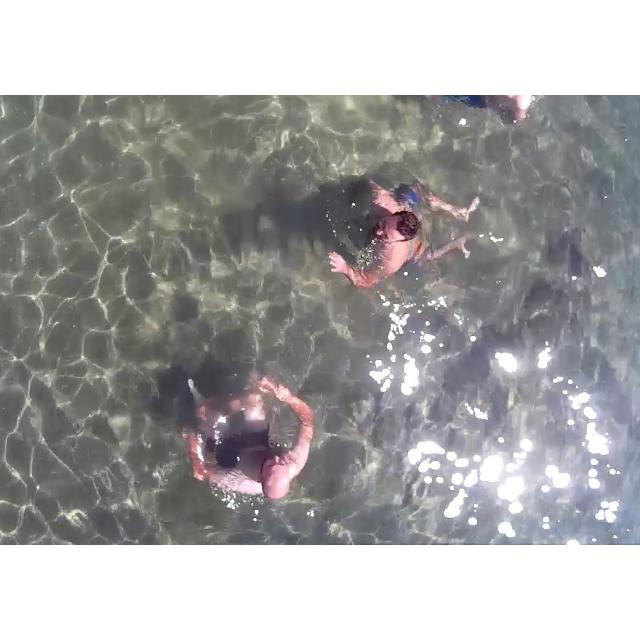human: (167, 352, 310, 517), (319, 158, 475, 303), (415, 95, 540, 134)
